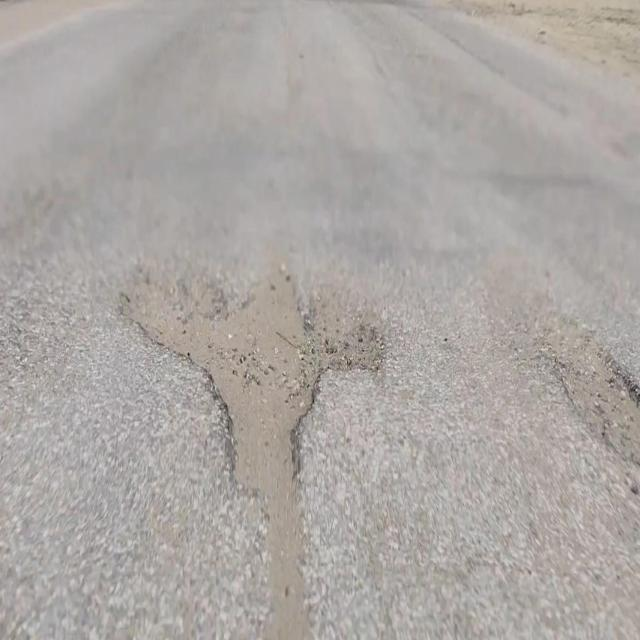Potholes: (126, 245, 387, 509), (541, 332, 640, 469)
